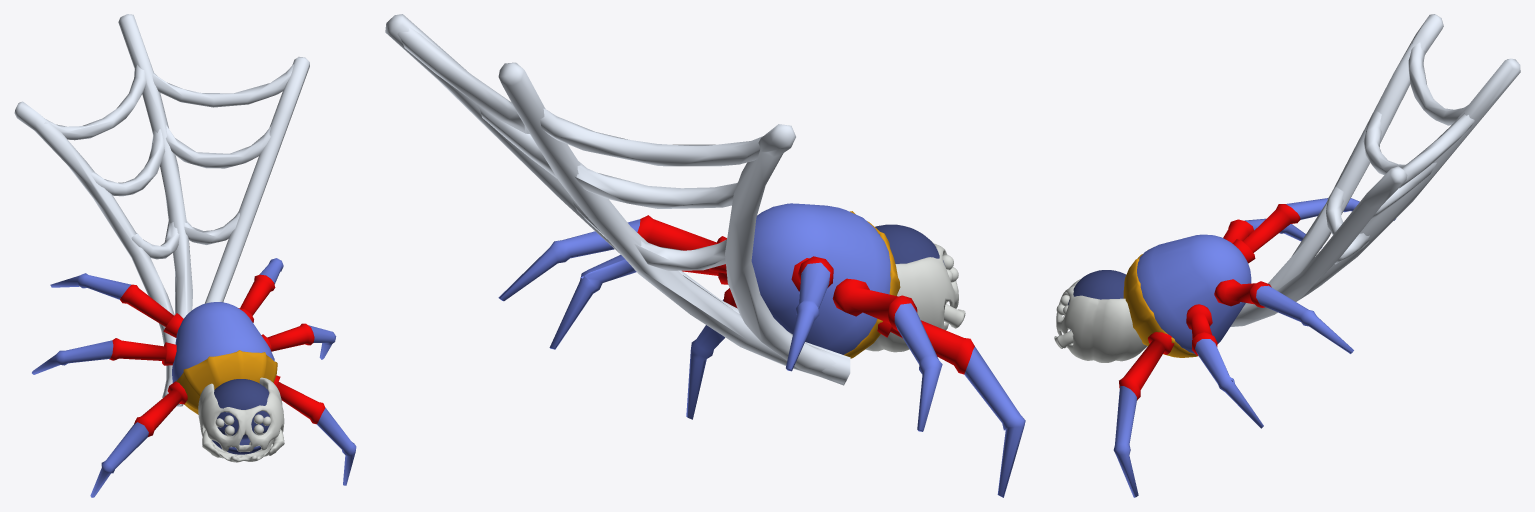
Rendered from spider-with-web-final-12.glb.
3 views of the same model, side by side, from view 1: azimuth 30°, elevation 25°; view 2: azimuth 150°, elevation 25°; view 3: azimuth 270°, elevation 25° (orthographic). The views are drawn at different scales.
Visible parts, largest first — view 1: BezierCurve.001, body, Head; view 2: BezierCurve.001, body, Head; view 3: body, BezierCurve.001, Head.
Part boxes in pixels (<box>): BezierCurve.001: <box>14,14,309,406</box>; body: <box>32,258,356,497</box>; Head: <box>198,377,284,462</box>; BezierCurve.001: <box>385,14,850,385</box>; body: <box>498,203,1025,497</box>; Head: <box>865,224,965,352</box>; body: <box>1113,198,1396,497</box>; BezierCurve.001: <box>1230,14,1520,326</box>; Head: <box>1054,270,1147,362</box>.
Bounding box in the file's own units: 1.5 × 1.67 × 1.71.
